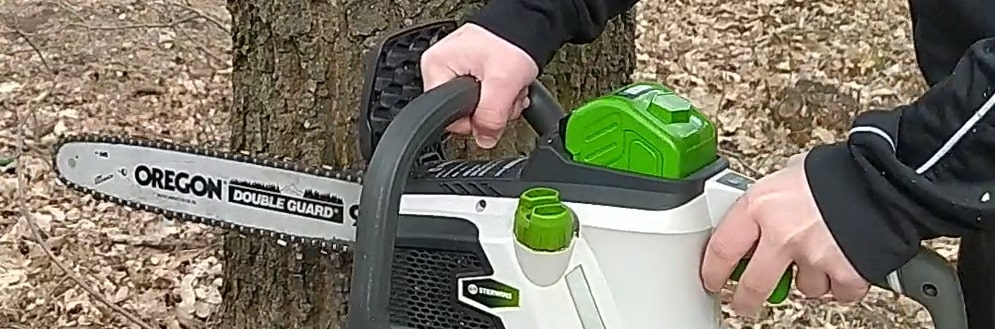chainsaw: (33, 17, 982, 329)
